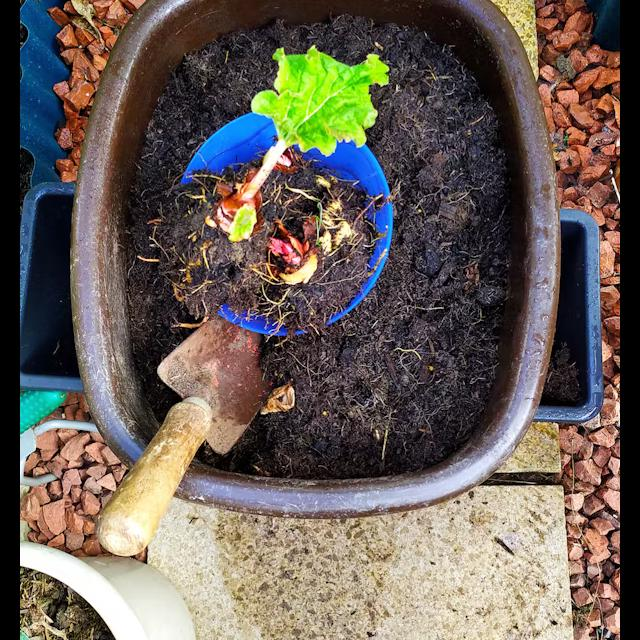food_waste: (376, 36, 504, 437), (136, 54, 464, 153), (282, 346, 438, 448), (294, 176, 378, 297), (216, 230, 310, 291)
